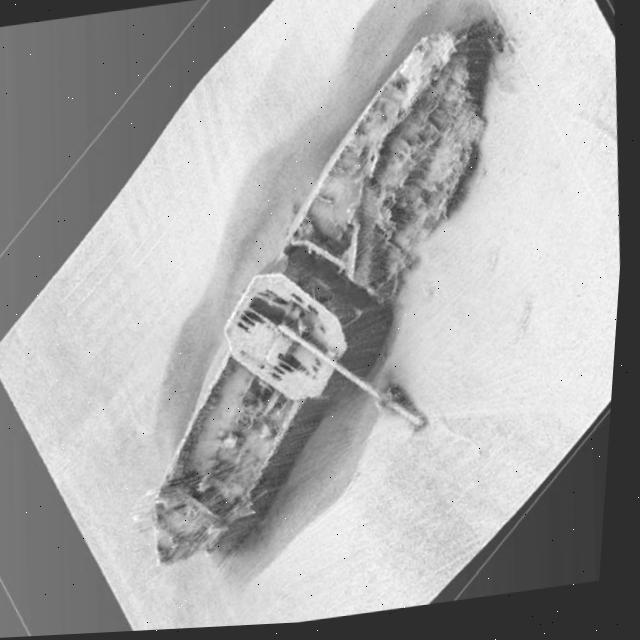shipwreck: (108, 11, 566, 587)
